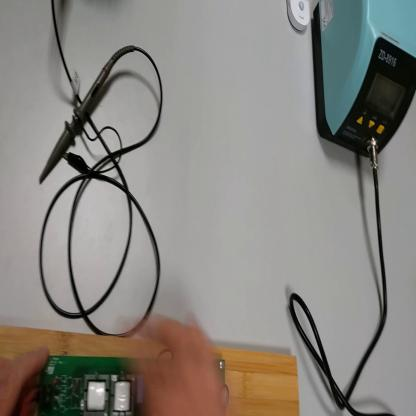hand: (123, 309, 230, 414), (2, 354, 46, 416)
high voltage board: (18, 354, 229, 416)
oscilloscope probe tip: (41, 45, 132, 181)
welder station: (313, 3, 416, 164)
working area: (2, 325, 301, 415)
